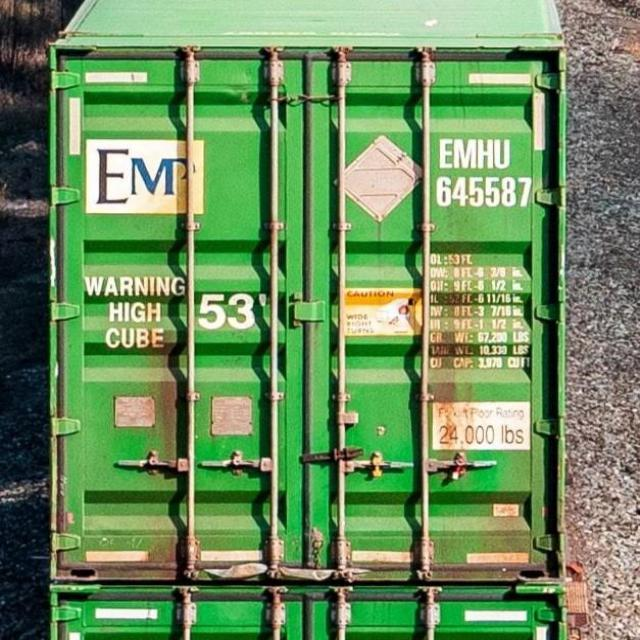container_number: (434, 134, 534, 210)
